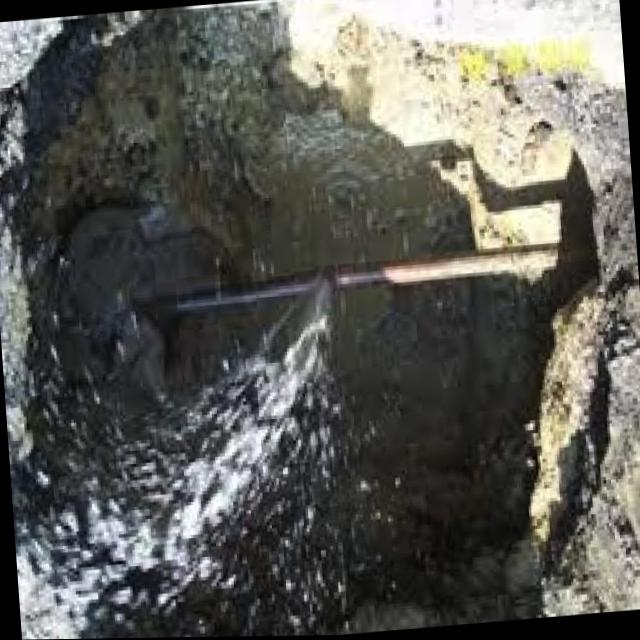leak: (11, 205, 337, 639)
